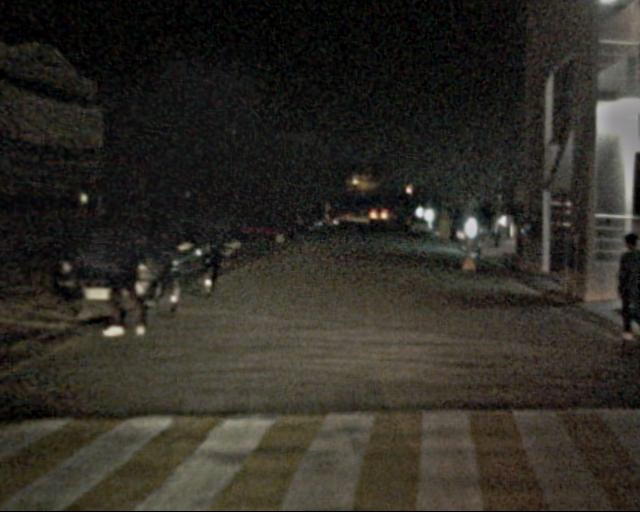person: (102, 215, 152, 337), (609, 233, 640, 347)
